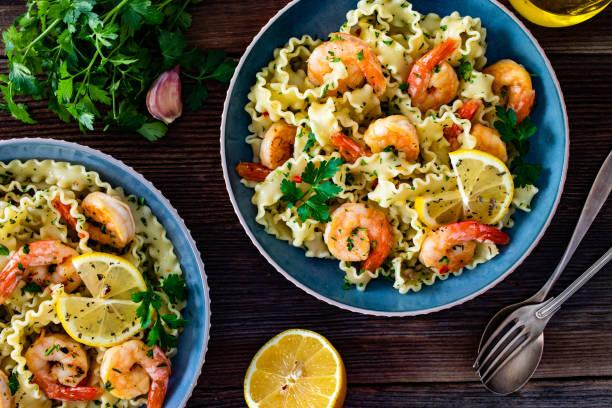Braised Crucian Carp: (221, 1, 565, 318), (2, 139, 211, 407)
